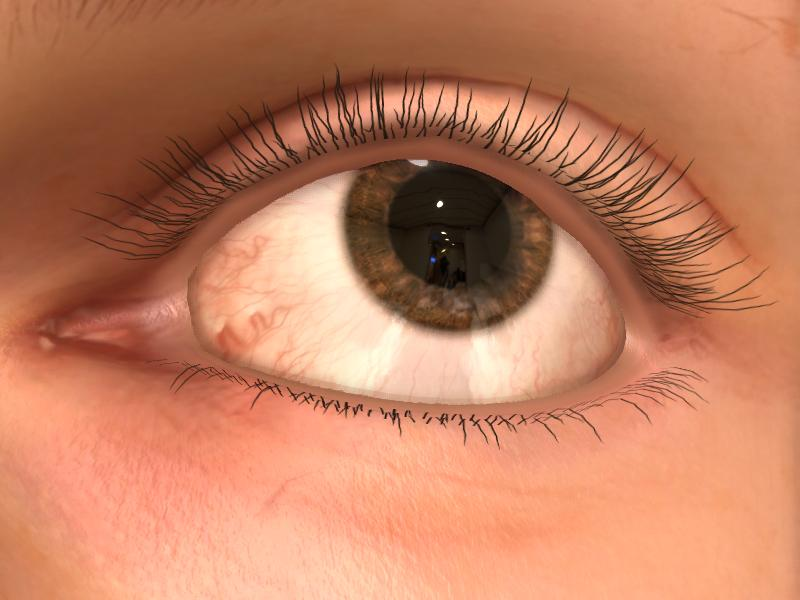eye: (347, 157, 549, 335)
